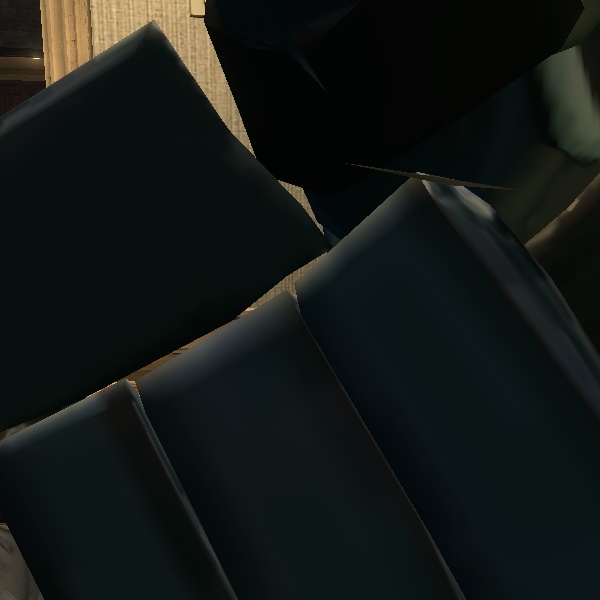t_body: (0, 0, 600, 585)
